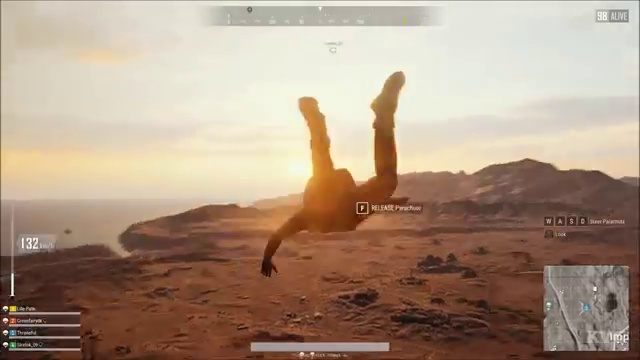Player: (218, 80, 428, 297)
